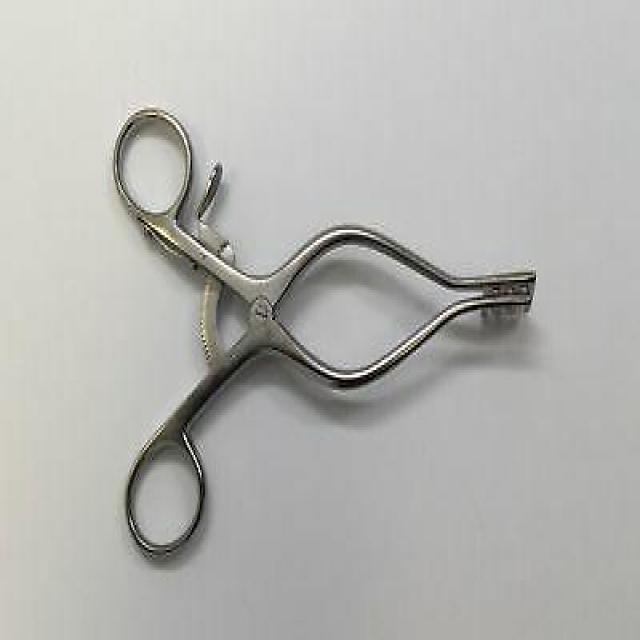Weitlaner: (108, 98, 542, 568)
